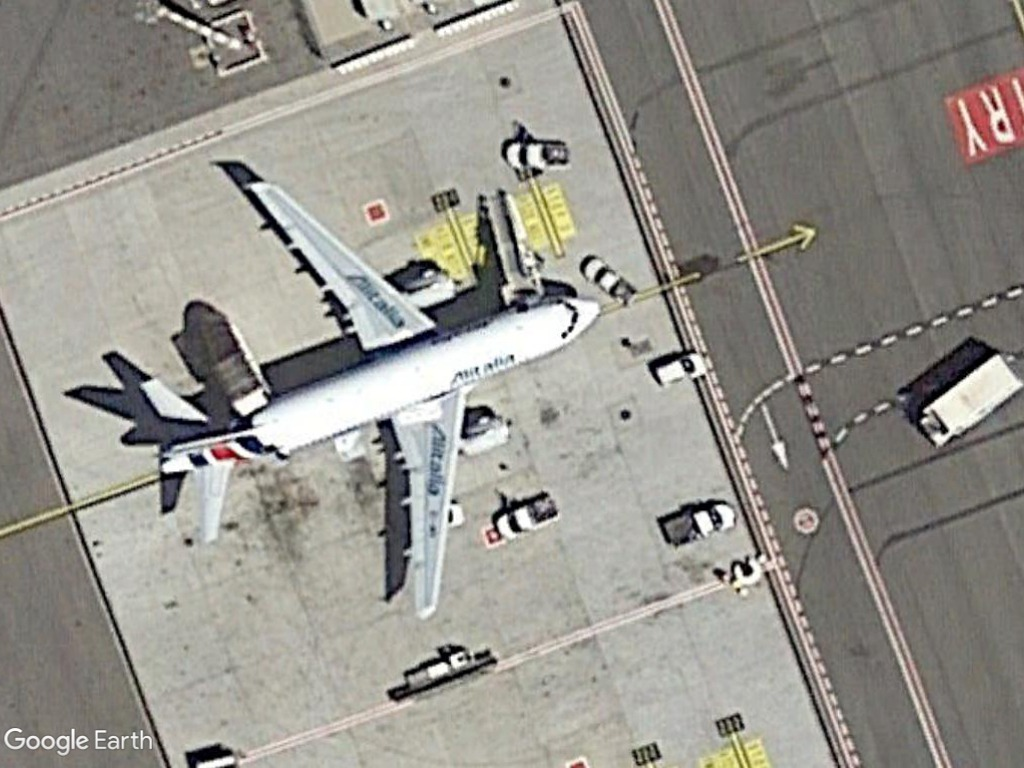airliner: (134, 171, 605, 627)
other: (656, 496, 742, 551), (495, 493, 560, 543), (502, 135, 574, 173), (581, 253, 634, 304)
stairtruck: (477, 186, 554, 307)
truck: (912, 345, 1024, 453)
van: (649, 348, 711, 391)
